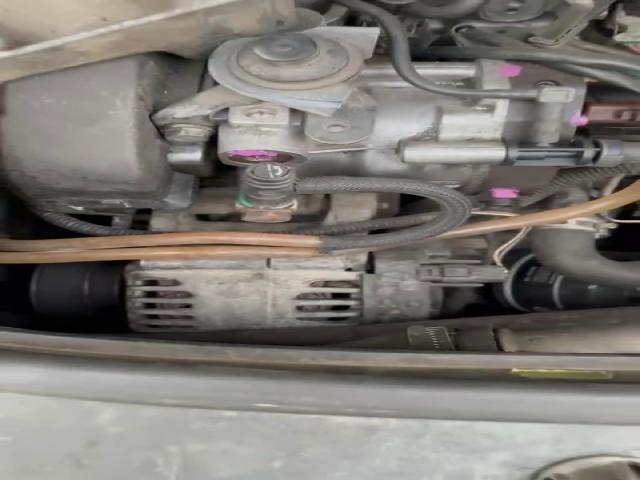alternator: (126, 256, 364, 332)
high_pressure_pump: (214, 60, 638, 203)
